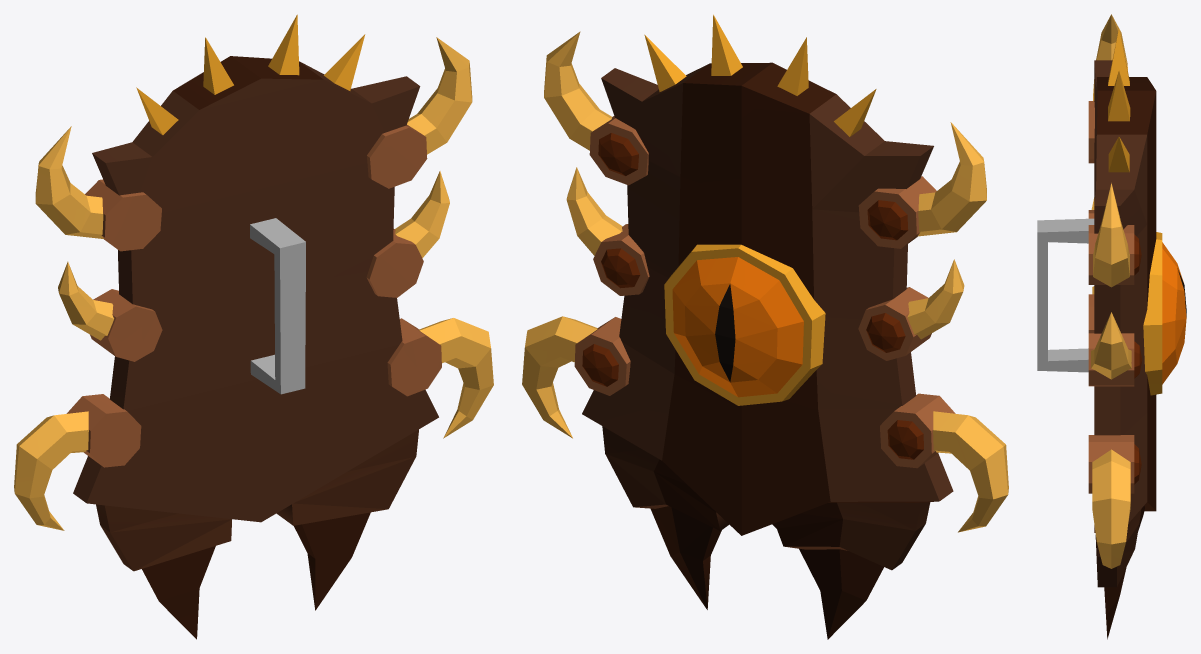
The model's file is Shield 03.fbx.
3 views of the same model, side by side, from view 1: azimuth 30°, elevation 25°; view 2: azimuth 150°, elevation 25°; view 3: azimuth 270°, elevation 25° (orthographic). The views are drawn at different scales.
Parts seen in each view (by area): view 1: Shield_03; view 2: Shield_03; view 3: Shield_03.
Part boxes in pixels (x1,y1,x2,y2): Shield_03: (14,14,493,639); Shield_03: (522,14,1008,639); Shield_03: (1037,14,1186,639).
Size of the model in its own units: 72.35 by 20.6 by 86.02.
